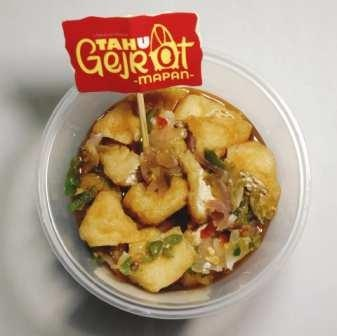tahu_gejrot: (71, 85, 282, 296)
